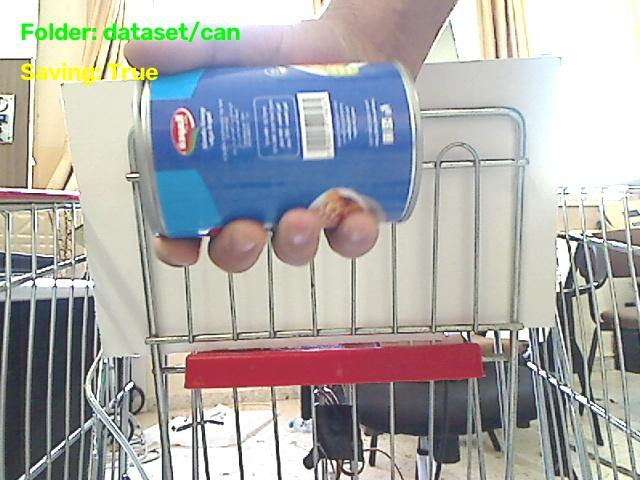can: (130, 63, 421, 237)
